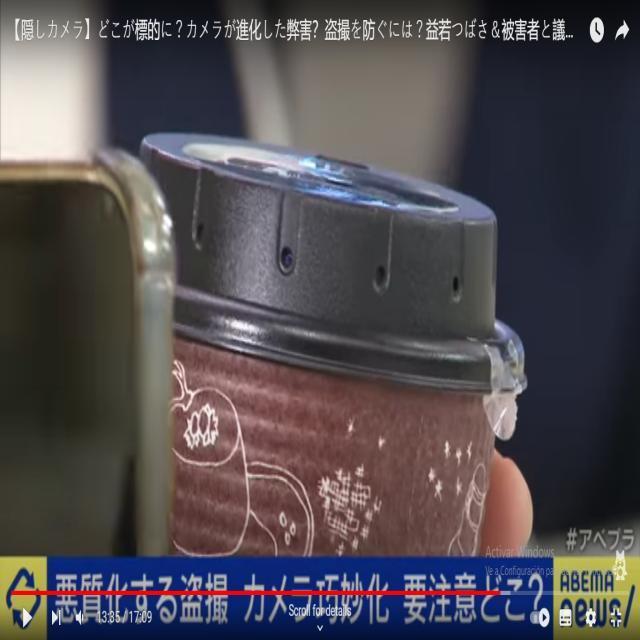hidden camera: (279, 242, 295, 272)
